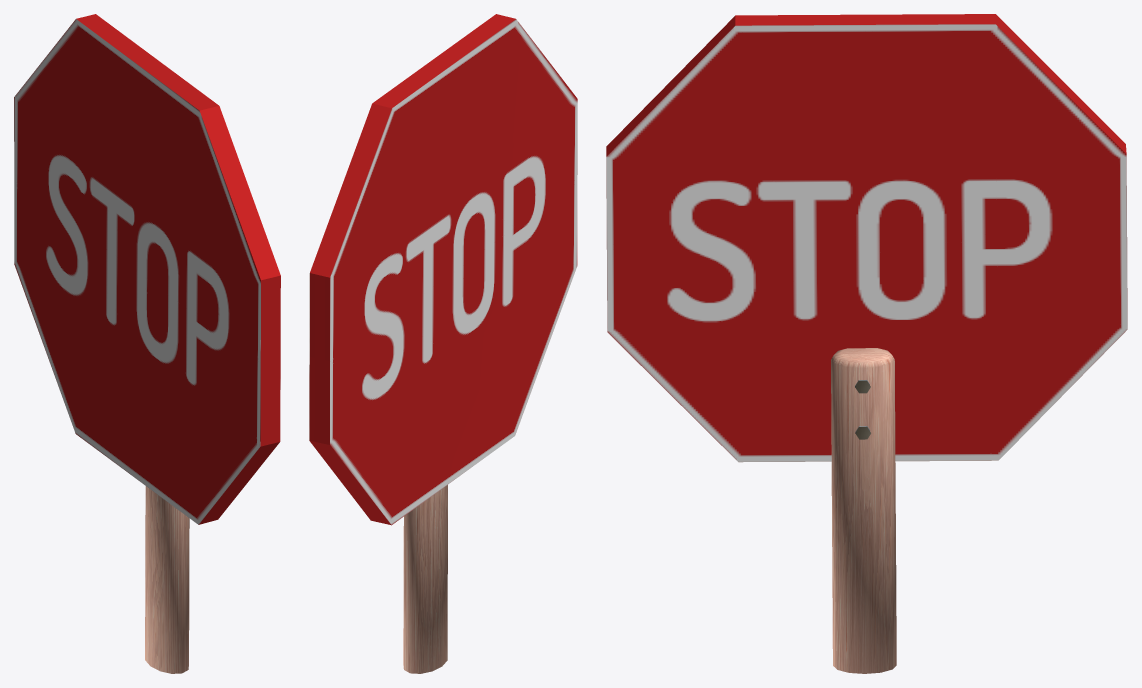
The model's file is StopSign.fbx.
3 views of the same model, side by side, from view 1: azimuth 30°, elevation 25°; view 2: azimuth 150°, elevation 25°; view 3: azimuth 270°, elevation 25° (orthographic). The views are drawn at different scales.
Parts seen in each view (by area): view 1: StopSign; view 2: StopSign; view 3: StopSign.
Part boxes in pixels (<box>): StopSign: <box>14,14,280,673</box>; StopSign: <box>309,14,577,673</box>; StopSign: <box>606,14,1127,673</box>.
Size of the model in its own units: 0.0298 by 0.3707 by 0.2752.
